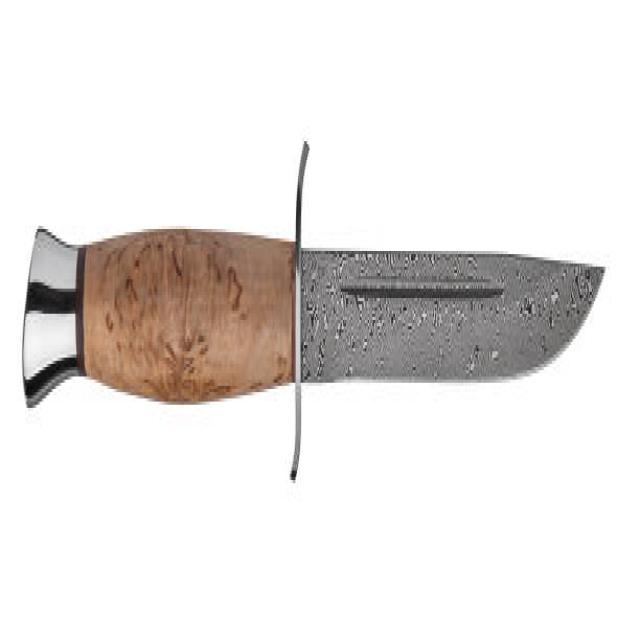knife: (19, 218, 608, 492)
